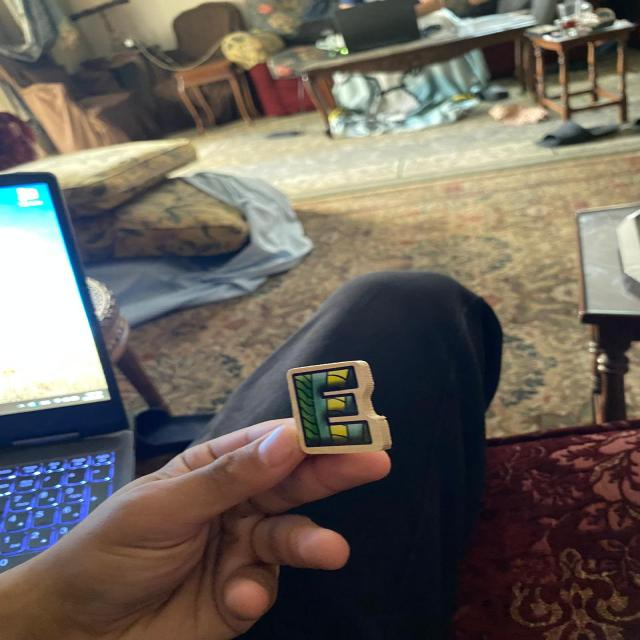E: (287, 361, 391, 454)
